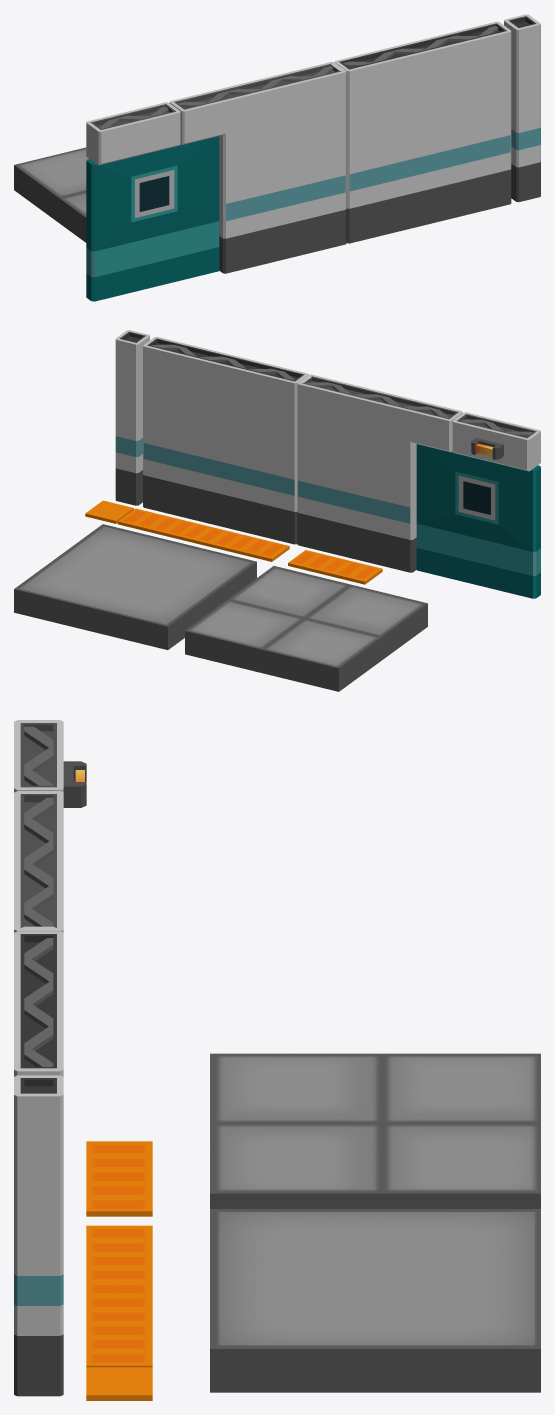
Rendered from Piece of bunker.fbx.
3 renders of one model, top to bottom at view 1: azimuth 30°, elevation 25°; view 2: azimuth 150°, elevation 25°; view 3: azimuth 270°, elevation 25°, orthographic. The views are drawn at different scales.
Parts seen in each view (by area): view 1: wall, wall for door, Cube.007, column, Cube.009, up wall; view 2: wall, wall for door, Cube.009, Cube.008, Cube.007, column, up wall, Cube.003, Cube.004, Cube.002, Cube.001; view 3: Cube.008, Cube.009, column, Cube.003, wall, wall for door, Cube.004, up wall, Cube.002, Cube.001.
Part boxes in pixels (<box>): wall: <box>334,21,511,243</box>; wall for door: <box>169,62,346,273</box>; Cube.007: <box>86,136,219,301</box>; column: <box>504,14,540,202</box>; Cube.009: <box>14,147,88,242</box>; up wall: <box>86,102,180,165</box>; wall: <box>143,337,308,544</box>; wall for door: <box>297,374,462,572</box>; Cube.009: <box>185,566,427,691</box>; Cube.008: <box>14,524,256,649</box>; Cube.007: <box>416,444,540,598</box>; column: <box>115,330,149,505</box>; up wall: <box>452,412,540,471</box>; Cube.003: <box>117,508,289,561</box>; Cube.004: <box>288,550,382,584</box>; Cube.002: <box>85,500,133,523</box>; Cube.001: <box>471,438,503,459</box>; Cube.008: <box>210,1209,540,1392</box>; Cube.009: <box>210,1053,540,1208</box>; column: <box>14,1075,63,1396</box>; Cube.003: <box>86,1225,152,1367</box>; wall: <box>14,931,63,1076</box>; wall for door: <box>14,791,63,932</box>; Cube.004: <box>86,1141,152,1216</box>; up wall: <box>14,720,63,792</box>; Cube.002: <box>86,1367,152,1400</box>; Cube.001: <box>63,761,86,807</box>.
Size of the model in its own units: 5.49 by 2.14 by 3.18.
